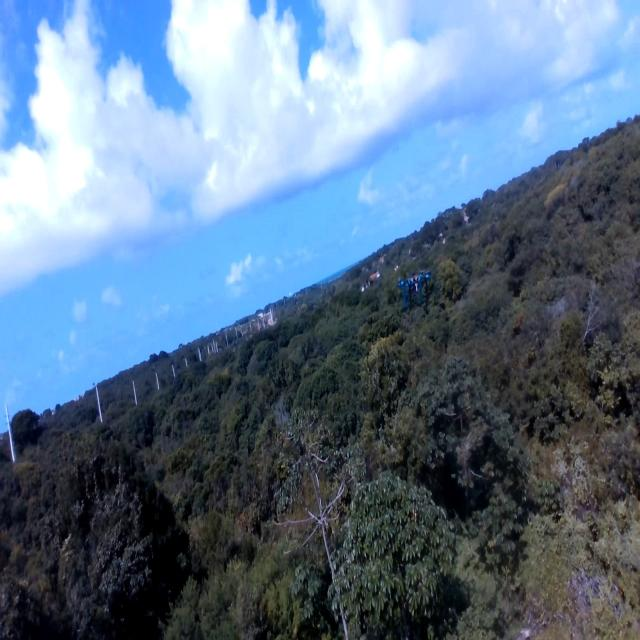-uav-: (397, 260, 431, 310)
